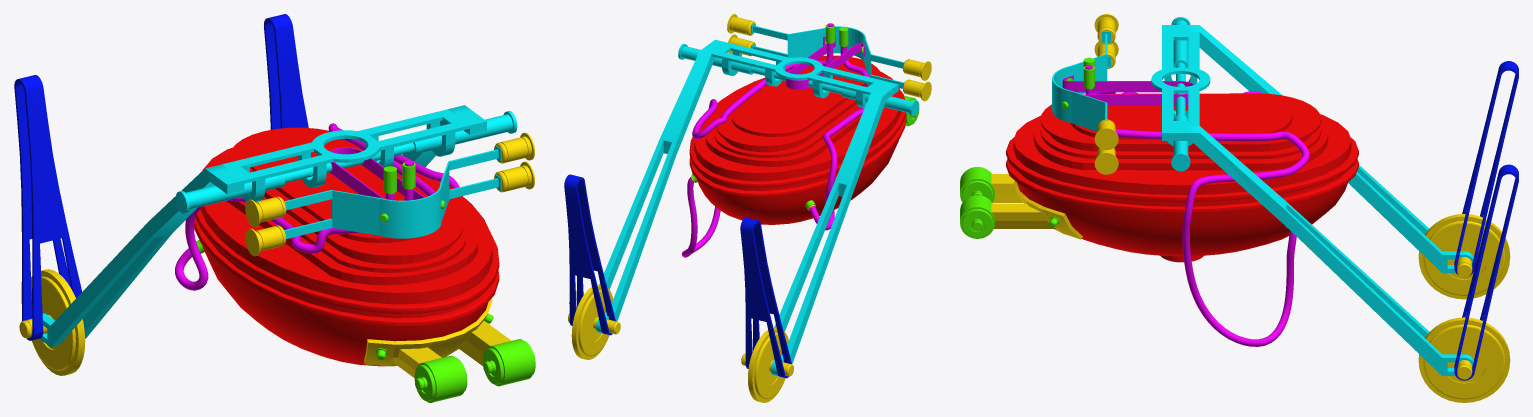
File: Body01.fbx
3 views of the same model, side by side, from view 1: azimuth 30°, elevation 25°; view 2: azimuth 150°, elevation 25°; view 3: azimuth 270°, elevation 25° (orthographic). The views are drawn at different scales.
Visible parts, largest first — view 1: Body01; view 2: Body01; view 3: Body01.
Boxes of the visible parts, box(x1,y1,x2,y2) form: Body01: box(14, 14, 535, 402); Body01: box(564, 14, 931, 402); Body01: box(960, 14, 1518, 402).
Size of the model in its own units: 0.2575 by 0.2514 by 0.4437.
